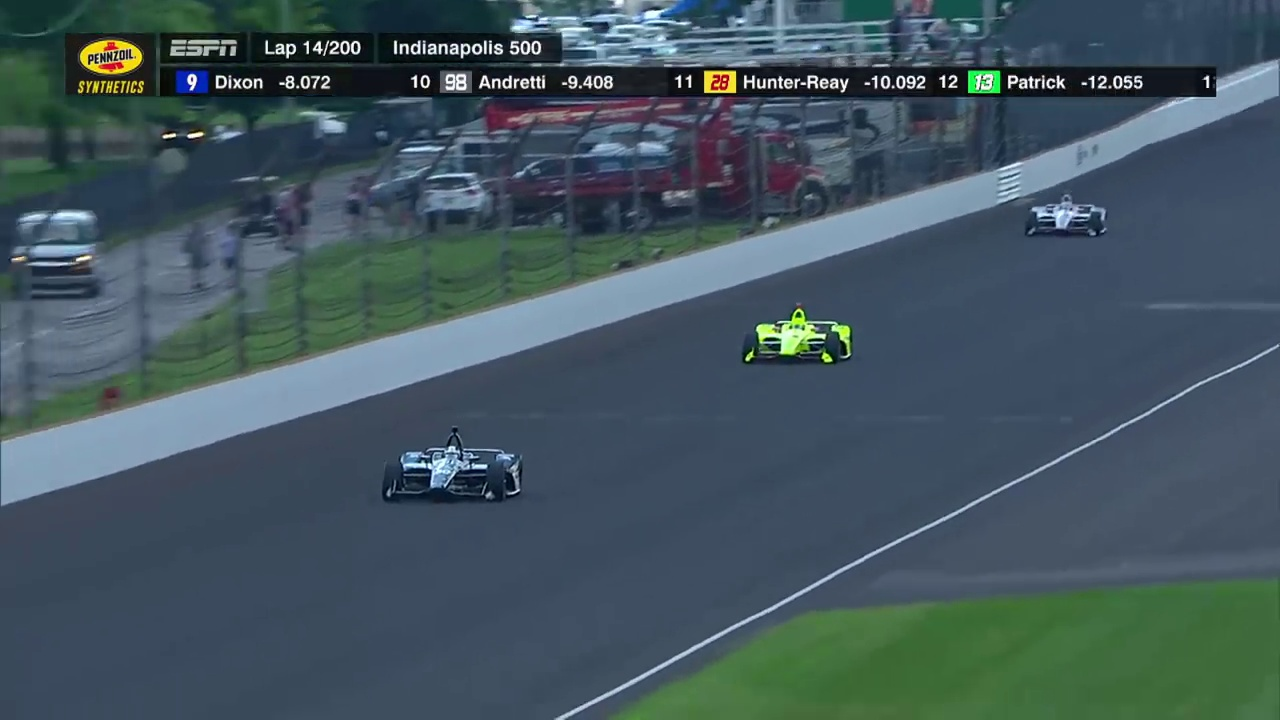car: (380, 420, 525, 504), (738, 299, 854, 368), (1021, 182, 1107, 237)
